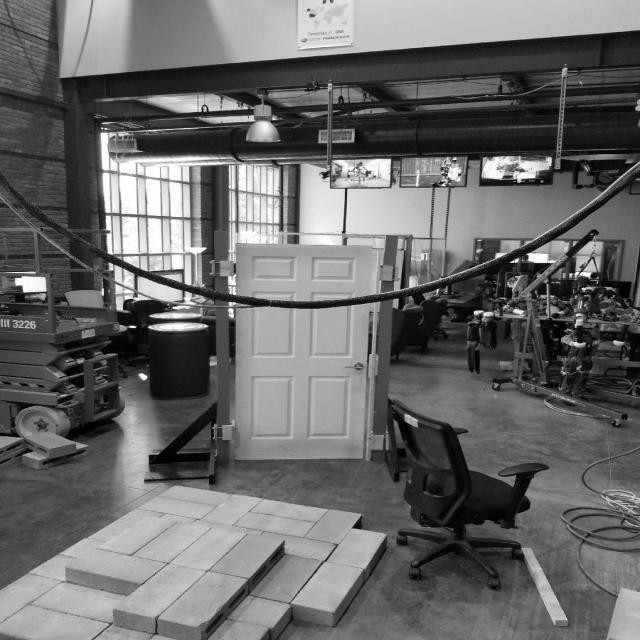door: (231, 240, 374, 463), (342, 357, 366, 374)
